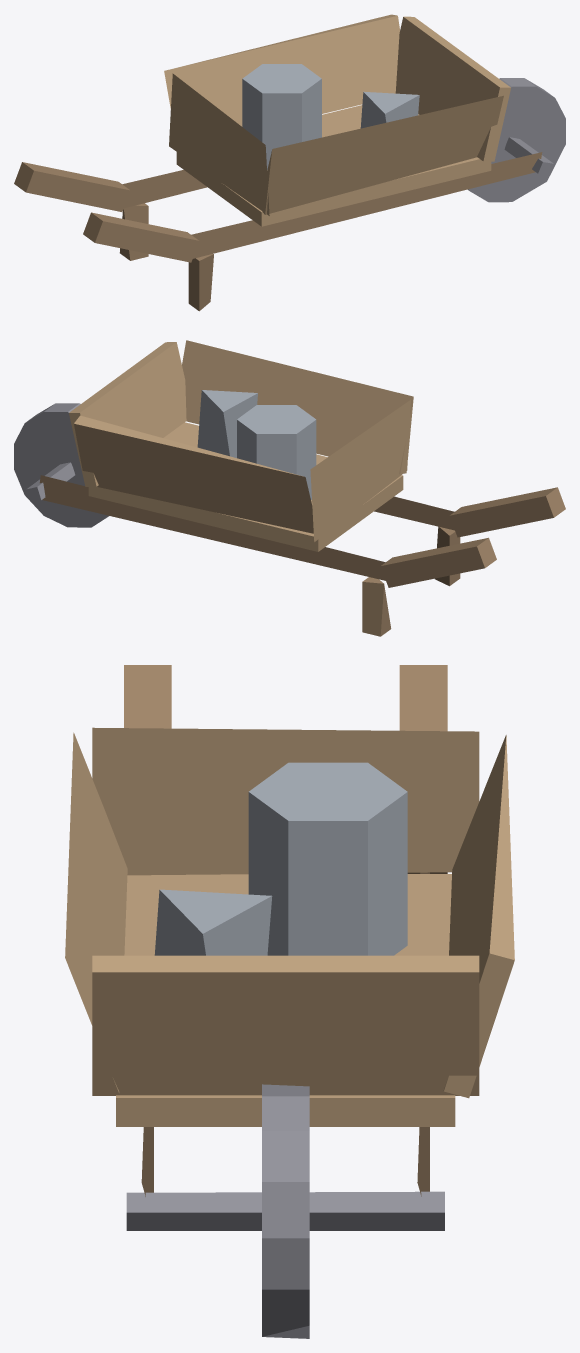
The model's file is 35-Mineria_carretilla_minero.glb.
The picture shows the model from 3 angles, top to bottom: view 1: azimuth 30°, elevation 25°; view 2: azimuth 150°, elevation 25°; view 3: azimuth 270°, elevation 25°; orthographic projection. The views are drawn at different scales.
Parts seen in each view (by area): view 1: SM_Carre_M_Carre_Madera, SM_Carre_M_Carre_Madera_Osc, SM_Carre_M_Carre_Mineral, SM_Carre_M_Carre_Hierro; view 2: SM_Carre_M_Carre_Madera, SM_Carre_M_Carre_Madera_Osc, SM_Carre_M_Carre_Mineral, SM_Carre_M_Carre_Hierro; view 3: SM_Carre_M_Carre_Madera, SM_Carre_M_Carre_Mineral, SM_Carre_M_Carre_Hierro, SM_Carre_M_Carre_Madera_Osc.
Boxes of the visible parts, left/top/right/bottom form: SM_Carre_M_Carre_Madera: left=164, top=14, right=510, bottom=226; SM_Carre_M_Carre_Madera_Osc: left=14, top=152, right=542, bottom=311; SM_Carre_M_Carre_Mineral: left=242, top=64, right=419, bottom=169; SM_Carre_M_Carre_Hierro: left=468, top=78, right=565, bottom=202; SM_Carre_M_Carre_Madera: left=69, top=340, right=413, bottom=551; SM_Carre_M_Carre_Madera_Osc: left=39, top=475, right=565, bottom=636; SM_Carre_M_Carre_Mineral: left=197, top=390, right=316, bottom=499; SM_Carre_M_Carre_Hierro: left=14, top=403, right=108, bottom=527; SM_Carre_M_Carre_Madera: left=65, top=727, right=514, bottom=1126; SM_Carre_M_Carre_Mineral: left=154, top=762, right=407, bottom=955; SM_Carre_M_Carre_Hierro: left=126, top=1084, right=444, bottom=1338; SM_Carre_M_Carre_Madera_Osc: left=124, top=665, right=447, bottom=1196.
Size of the model in its own units: 2.2 by 0.68 by 0.8481.
